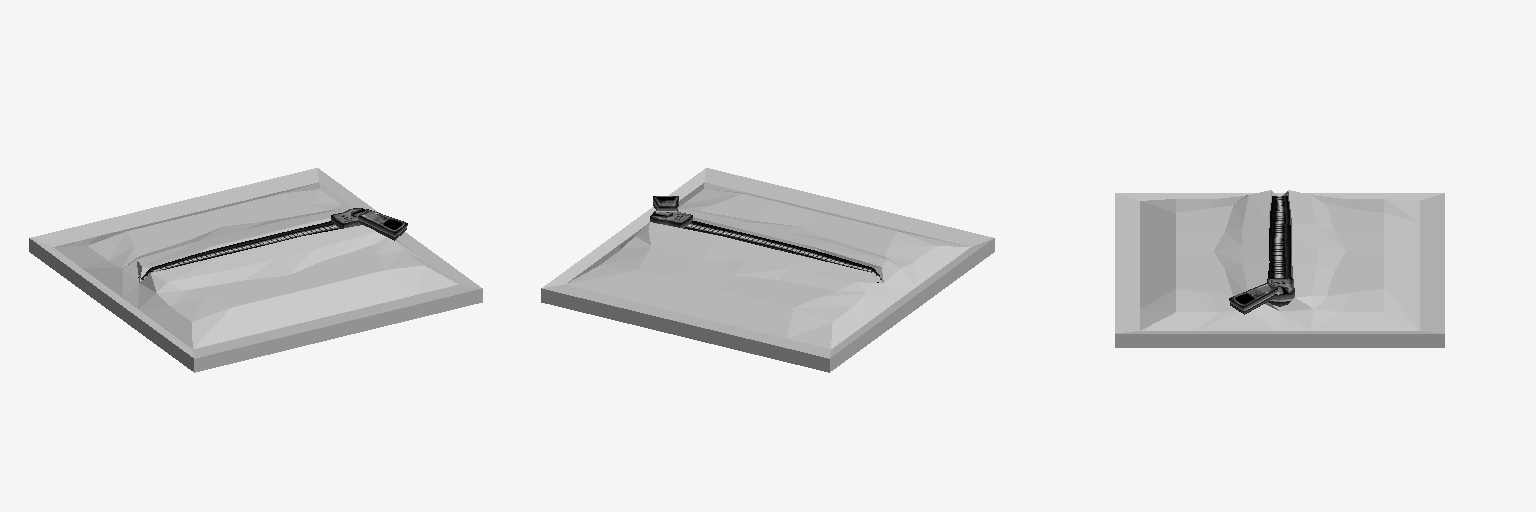
3 renders of one model, left to right at view 1: azimuth 30°, elevation 25°; view 2: azimuth 150°, elevation 25°; view 3: azimuth 270°, elevation 25°, orthographic.
Size of the model in its own units: 200 by 28.21 by 198.
4 materials, 3 textured.